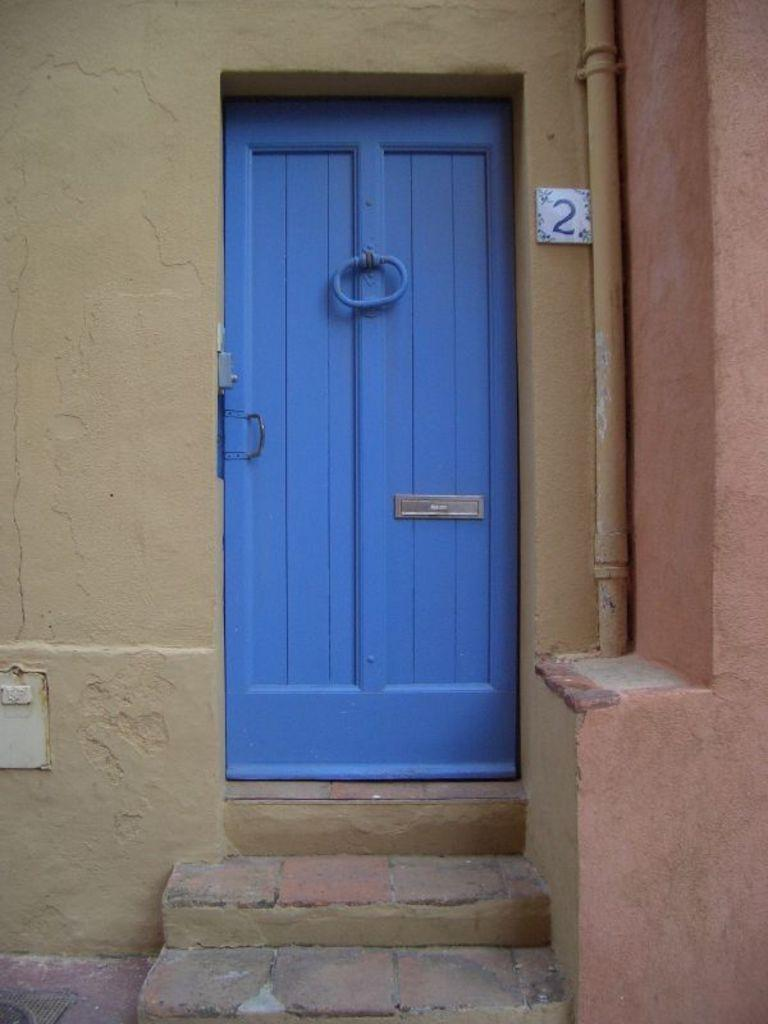handle: (247, 400, 268, 478)
